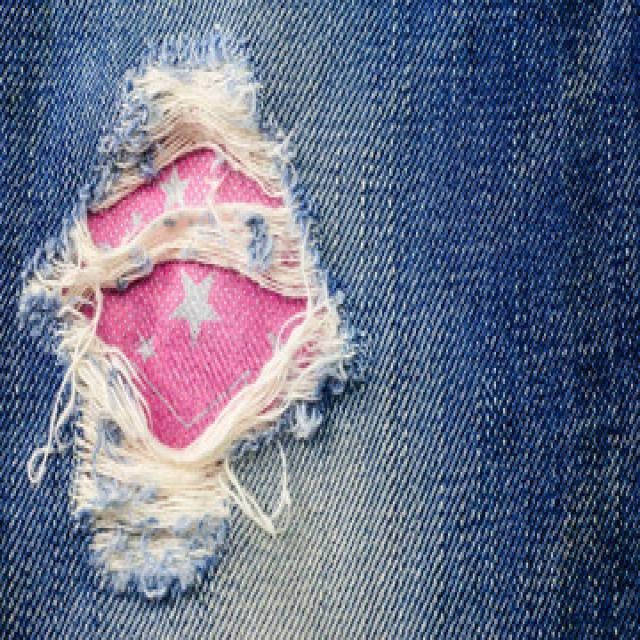Hole: (19, 29, 358, 600)
